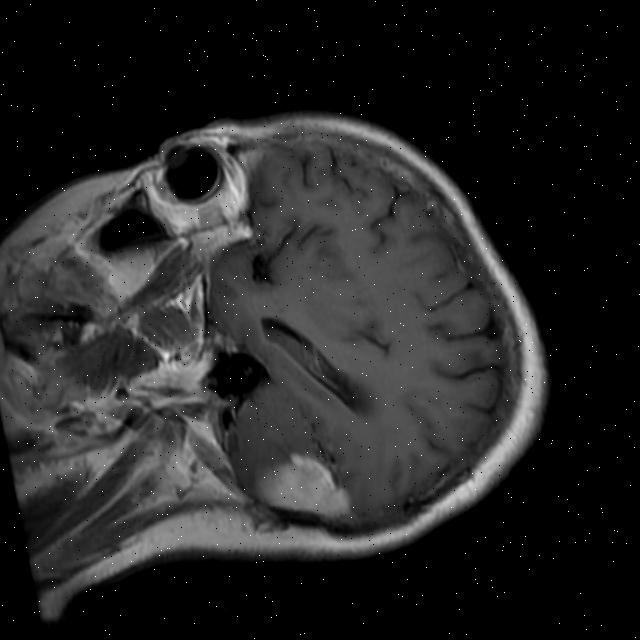Meningioma: (246, 437, 355, 536)
